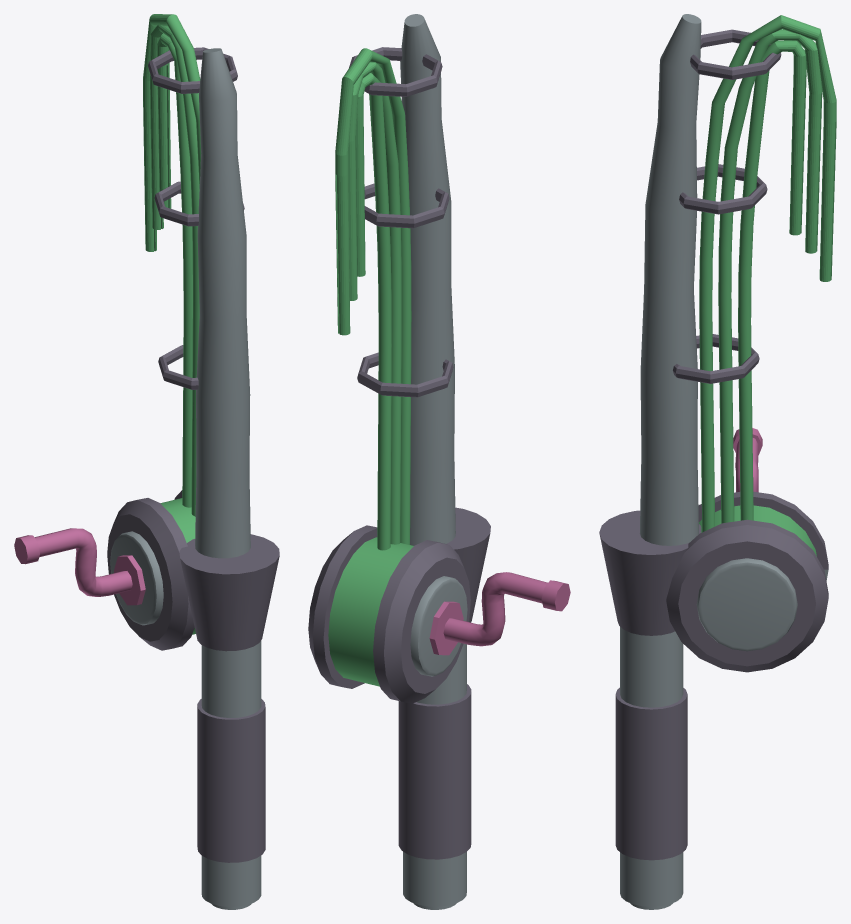
Rendered from fishingRod1.fbx.
3 views of the same model, side by side, from view 1: azimuth 30°, elevation 25°; view 2: azimuth 150°, elevation 25°; view 3: azimuth 270°, elevation 25° (orthographic). The views are drawn at different scales.
Parts seen in each view (by area): view 1: FishingRodMesh, Line1, Line2, Handle, Line3; view 2: FishingRodMesh, Line3, Line1, Line2, Handle; view 3: FishingRodMesh, Line3, Line2, Line1, Handle.
Part boxes in pixels (x1,y1,x2,y2): FishingRodMesh: (107,47,279,909); Line1: (157,33,192,507); Line2: (149,24,199,516); Handle: (14,528,132,596); Line3: (143,14,201,251); FishingRodMesh: (308,14,490,909); Line3: (335,48,411,544); Line1: (355,73,391,550); Line2: (348,62,401,544); Handle: (443,572,570,646); FishingRodMesh: (599,14,828,909); Line3: (699,15,836,532); Line2: (718,29,822,523); Line1: (738,40,806,520); Handle: (733,428,762,492).
Bounding box in the file's own units: 3.18 × 12.01 × 2.92.
